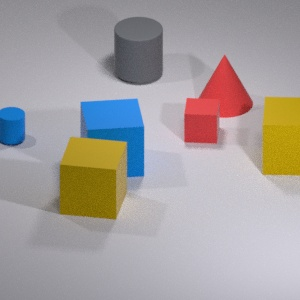lapphuong: (54, 136, 135, 223), (70, 95, 149, 183), (256, 92, 300, 180), (176, 95, 223, 148)
non: (201, 54, 253, 124)
tru: (107, 13, 168, 91), (1, 105, 30, 154)
